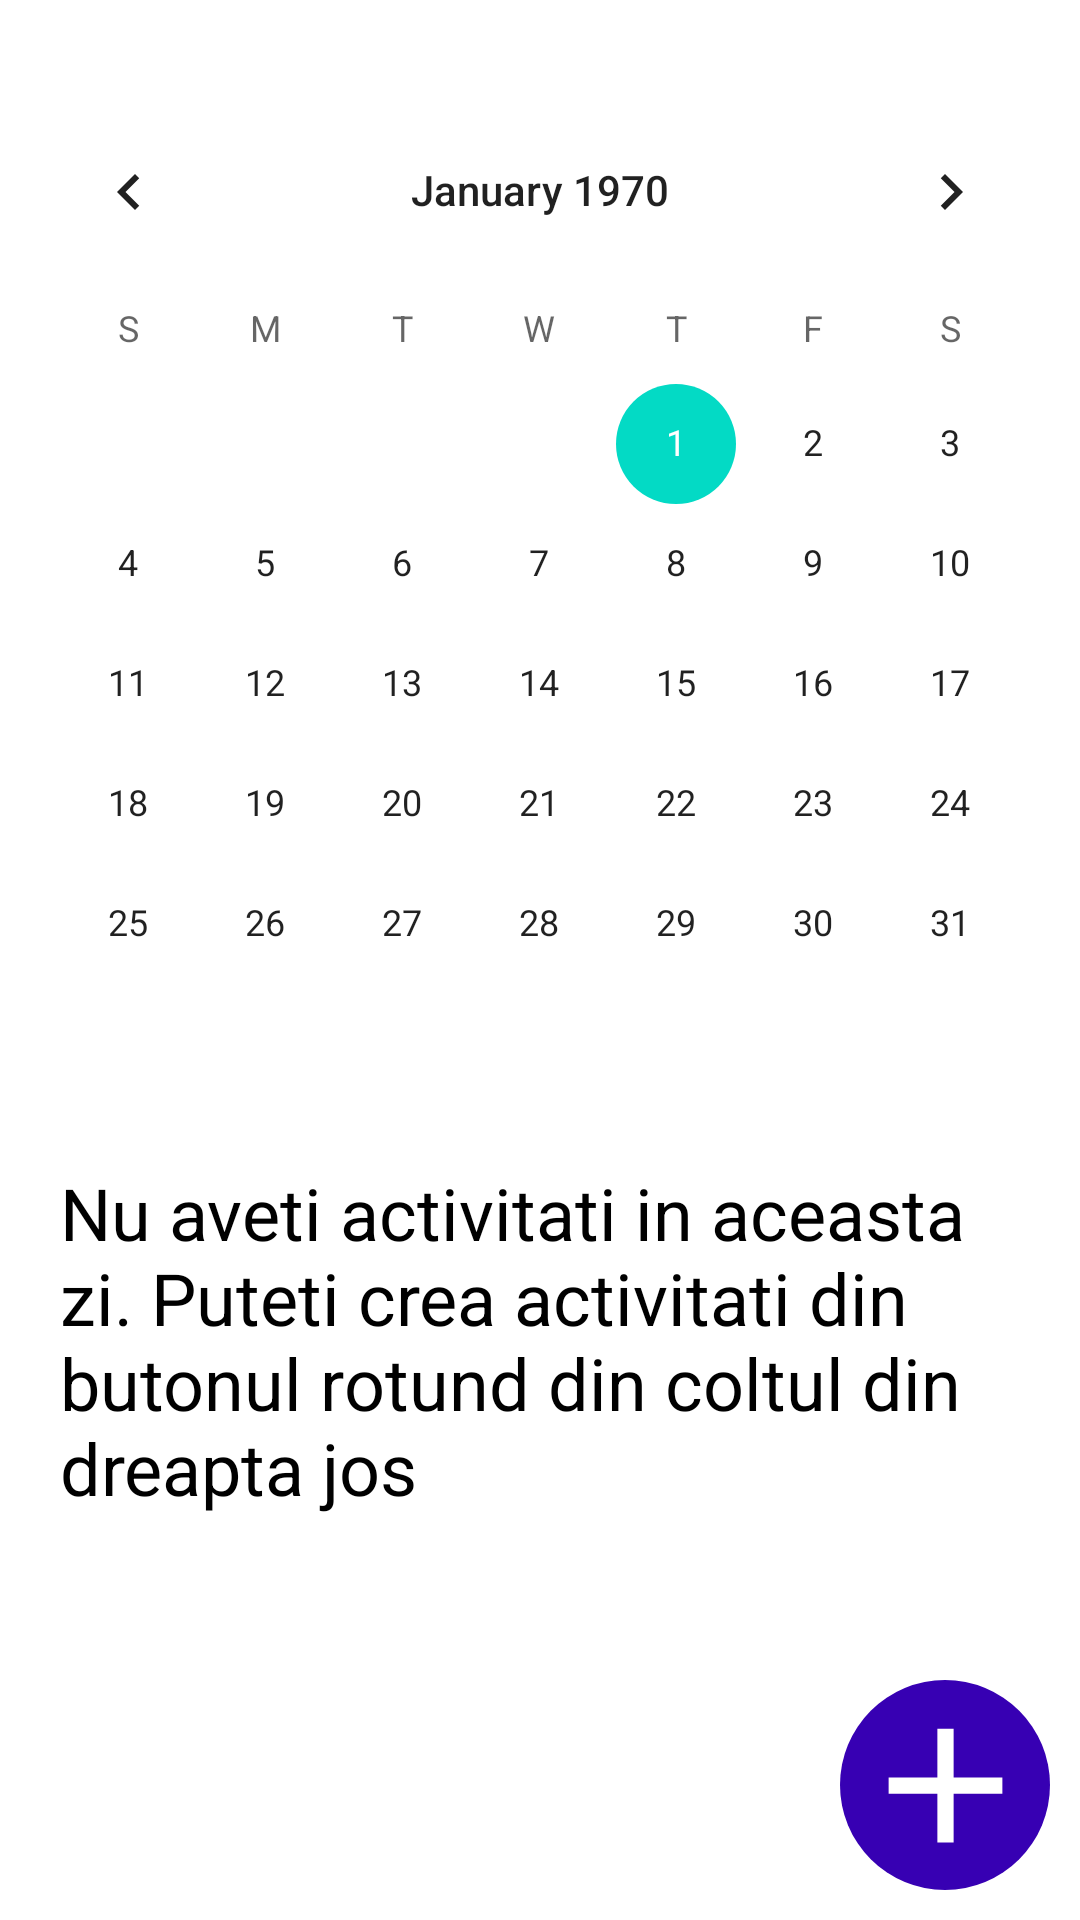

Screen size 1080*1920. Icon name, then its box in pixels as [x1, y1, x2, y2]:
add: [840, 1680, 1050, 1890]
